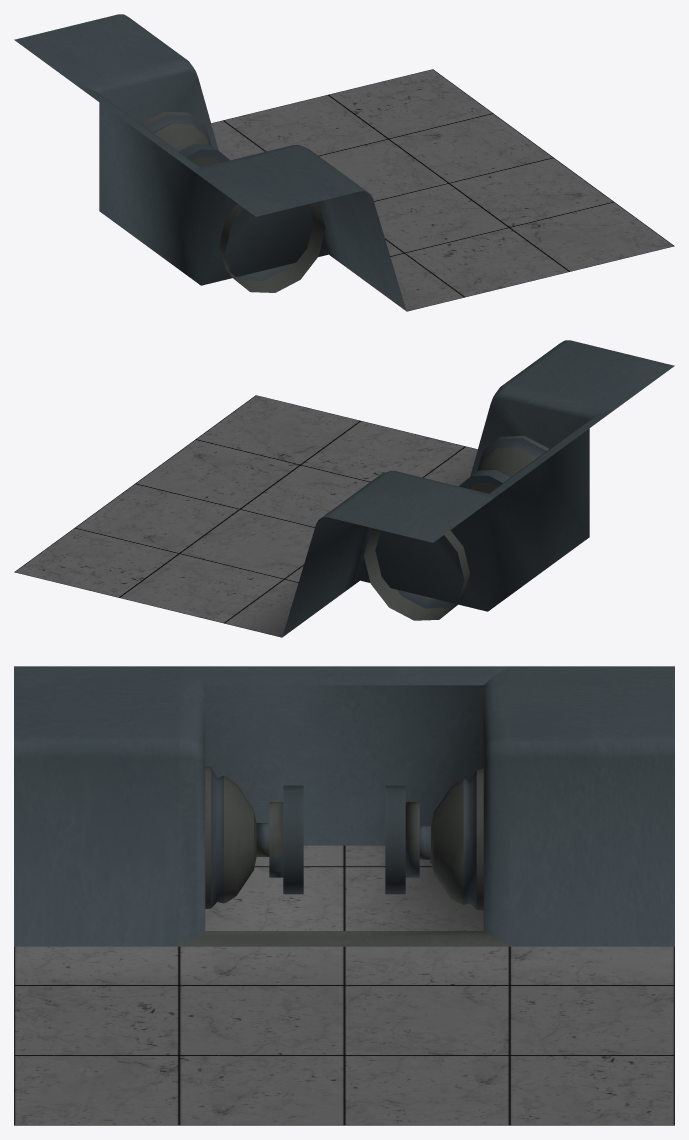
The model's file is tileset.fbx_Collection_5.fbx.
3 views of the same model, one above another, from view 1: azimuth 30°, elevation 25°; view 2: azimuth 150°, elevation 25°; view 3: azimuth 270°, elevation 25° (orthographic). The views are drawn at different scales.
Parts seen in each view (by area): view 1: Cylinder.005; view 2: Cylinder.005; view 3: Cylinder.005.
Part boxes in pixels (x1,y1,x2,y2): Cylinder.005: [14, 14, 674, 311]; Cylinder.005: [14, 340, 674, 637]; Cylinder.005: [14, 666, 674, 1125].
Size of the model in its own units: 500 by 162 by 500.
